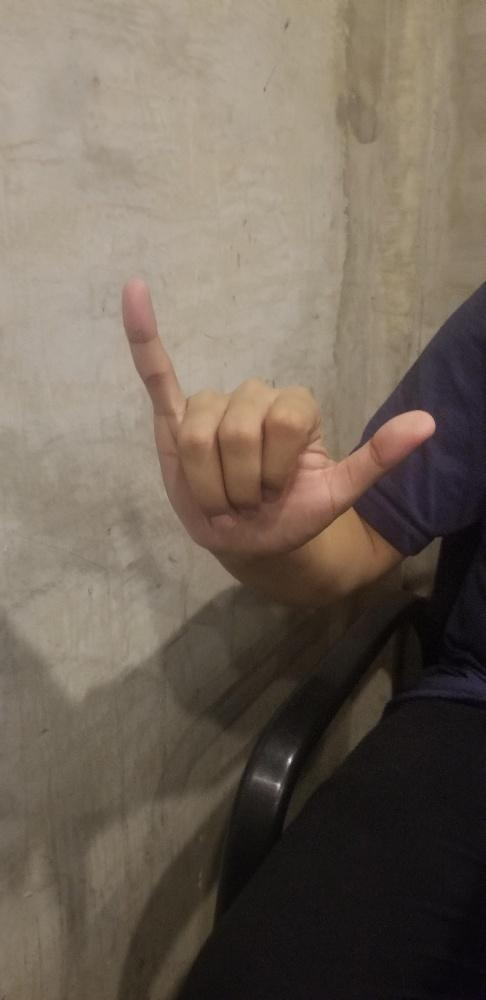y: (119, 273, 436, 558)
